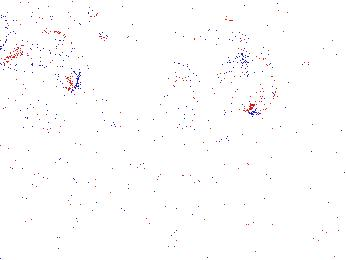moon jellyfish: (90, 57, 206, 139), (1, 64, 66, 148), (1, 29, 81, 95), (222, 45, 278, 116)
